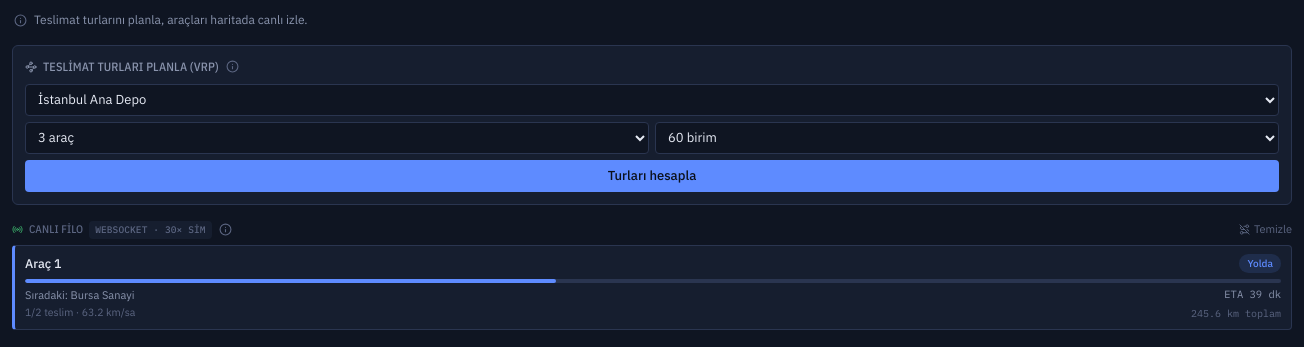
Test: LogisticsPanel › Temizle canlı sevkiyatları siler
Expected: the element with test id "live-fleet" is shown, [12,220,1292,330]
Click the button "Temizle" at (1265, 230), box [1239,221,1292,238]
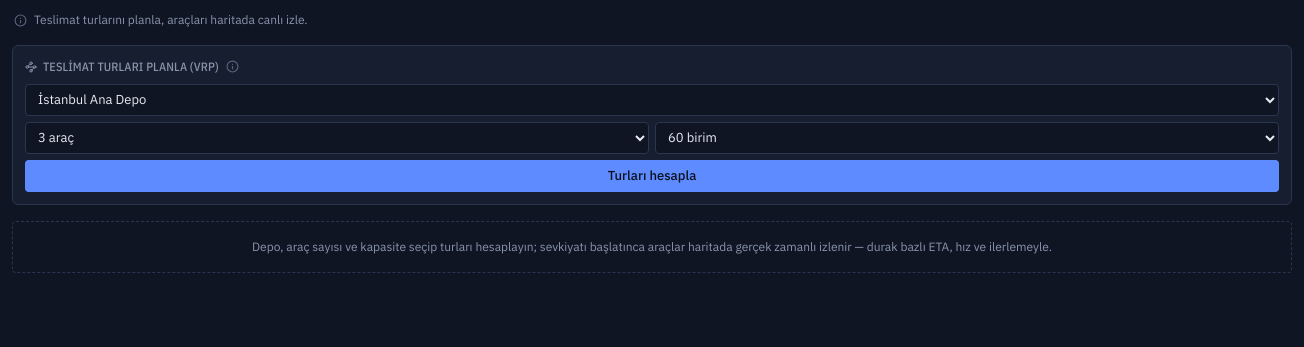
Result: the element with test id "live-fleet" is gone
